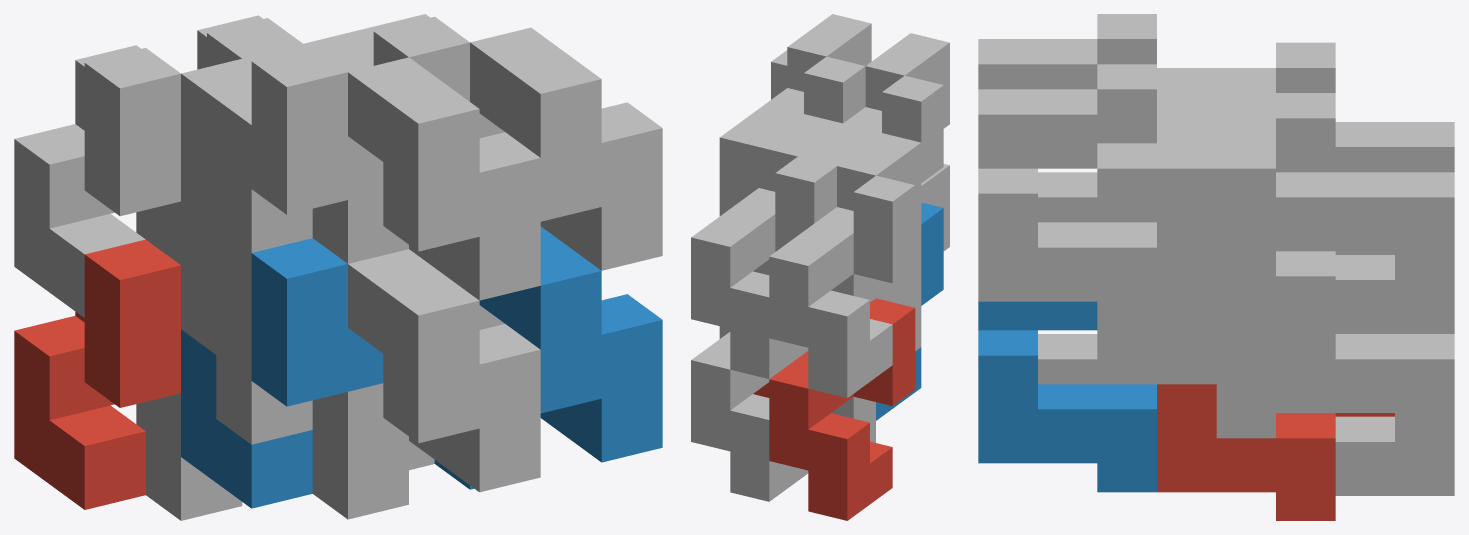
Rendered from tiling.obj.
The picture shows the model from 3 angles, left to right: view 1: azimuth 30°, elevation 25°; view 2: azimuth 150°, elevation 25°; view 3: azimuth 270°, elevation 25°; orthographic projection. The views are drawn at different scales.
Parts seen in each view (by area): view 1: copy_2_domain_2, copy_2_domain_4, copy_1_domain_1, copy_1_domain_3, copy_2_domain_8, copy_1_domain_2, copy_2_domain_6, copy_1_domain_4, copy_2_domain_1, copy_2_domain_3, copy_1_domain_8, copy_1_domain_7 (+2 smaller); view 2: copy_1_domain_3, copy_1_domain_7, copy_1_domain_1, copy_1_domain_5, copy_1_domain_8, copy_1_domain_4, copy_2_domain_3, copy_2_domain_8, copy_2_domain_4, copy_2_domain_7, copy_1_domain_2, copy_2_domain_1 (+1 smaller); view 3: copy_2_domain_8, copy_1_domain_7, copy_2_domain_6, copy_1_domain_5, copy_1_domain_8, copy_2_domain_7, copy_2_domain_5, copy_1_domain_6, copy_1_domain_3, copy_2_domain_4, copy_1_domain_4, copy_2_domain_2 (+1 smaller).
Part boxes in pixels (x1,y1,x2,y2): copy_2_domain_2: (312,249,540,519); copy_2_domain_4: (312,57,540,300); copy_1_domain_1: (14,239,180,509); copy_1_domain_3: (14,45,180,317); copy_2_domain_8: (470,27,662,270); copy_1_domain_2: (181,238,383,508); copy_2_domain_6: (434,226,662,489); copy_1_domain_4: (181,44,383,316); copy_2_domain_1: (146,265,312,520); copy_2_domain_3: (146,59,312,264); copy_1_domain_8: (365,14,504,138); copy_1_domain_7: (136,15,302,239); copy_1_domain_3: (769,175,915,398); copy_1_domain_7: (691,156,836,378); copy_1_domain_1: (769,298,915,520); copy_1_domain_5: (691,332,808,501); copy_1_domain_8: (719,56,865,215); copy_1_domain_4: (798,75,943,297); copy_2_domain_3: (831,133,921,302); copy_2_domain_8: (771,14,871,99); copy_2_domain_4: (865,33,949,128); copy_2_domain_7: (753,114,842,275); copy_1_domain_2: (876,202,943,420); copy_2_domain_1: (831,265,921,442); copy_2_domain_8: (978,89,1156,330); copy_1_domain_7: (1276,93,1454,333); copy_2_domain_6: (978,301,1156,492); copy_1_domain_5: (1276,334,1454,495); copy_1_domain_8: (1097,64,1275,276); copy_2_domain_7: (1157,118,1335,359); copy_2_domain_5: (1157,384,1335,520); copy_1_domain_6: (1097,330,1275,438); copy_1_domain_3: (1276,42,1454,254); copy_2_domain_4: (978,39,1097,222); copy_1_domain_4: (1097,14,1275,118); copy_2_domain_2: (1038,334,1097,384).
Size of the model in its own units: 6 by 8 by 8.
